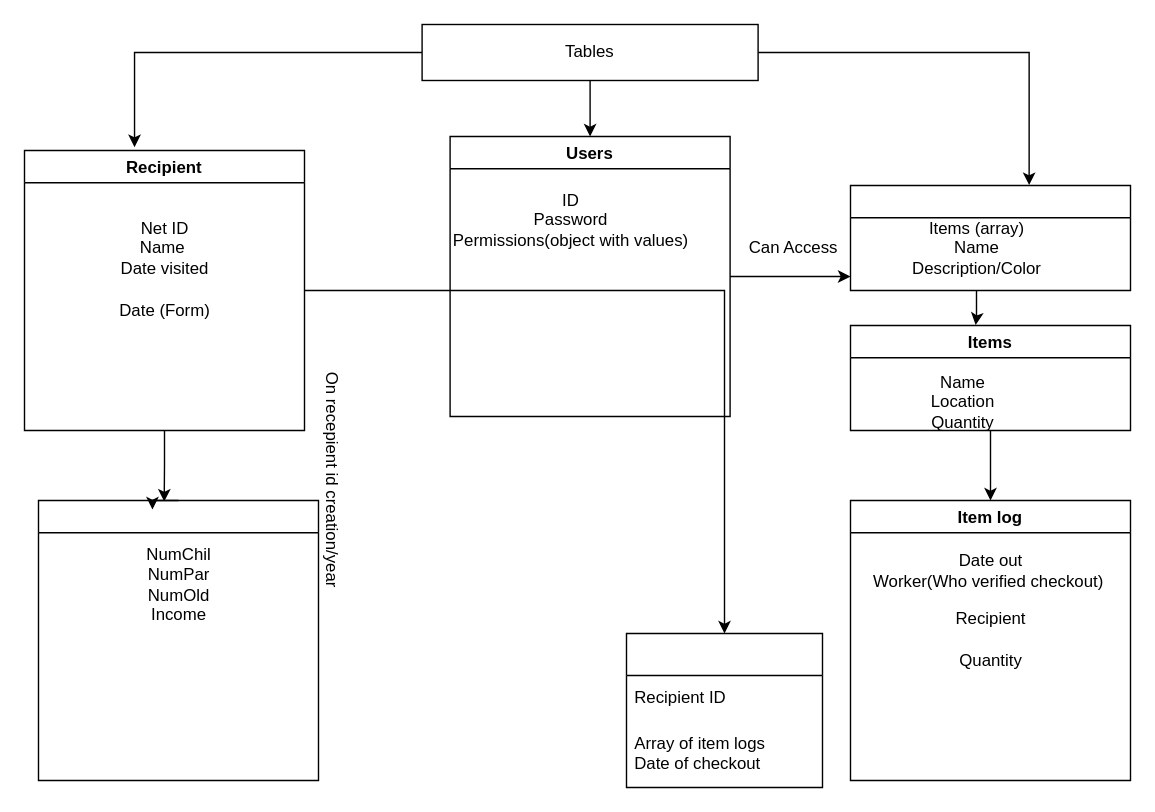
Image size: 1155x812. Some labels were removed from this diagram. The shapes that lost their labels are listed below. From the top down, each one's box as (x1, y1, x2, y2) in pixels, then its label:
(849, 184, 1130, 290): Categories
(37, 499, 318, 780): NFTBA Form
(625, 632, 822, 788): Checkout log
